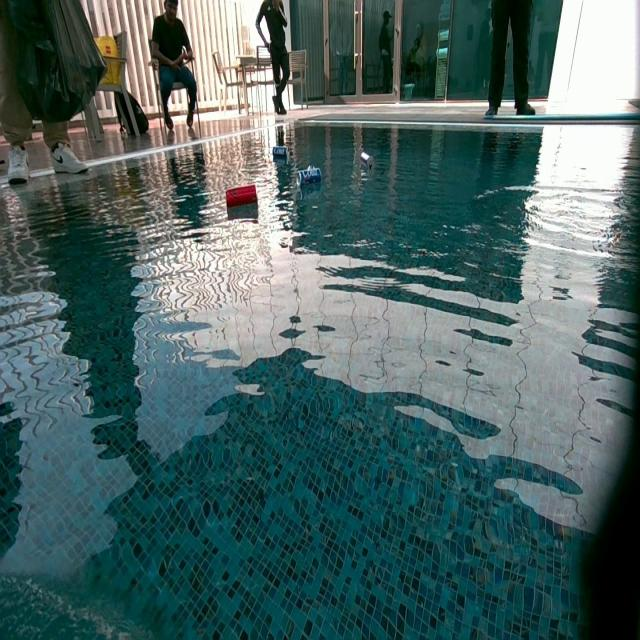Cans: (226, 187, 258, 209), (298, 168, 322, 188), (358, 150, 375, 172), (273, 145, 289, 160)
